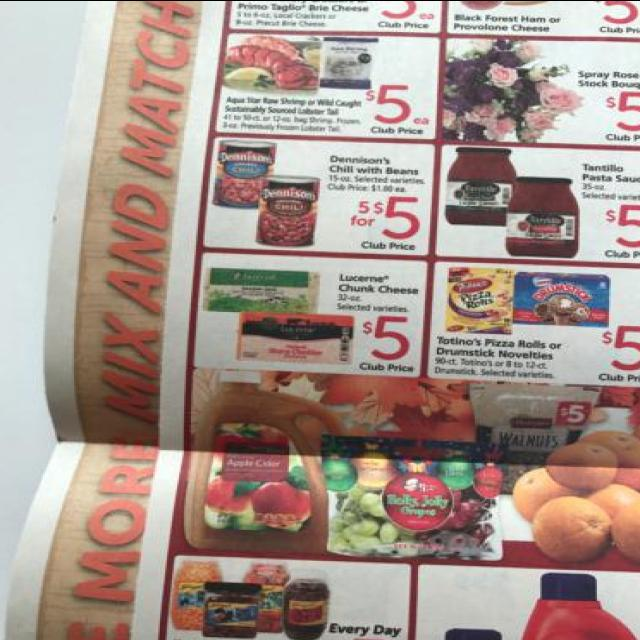kertas: (7, 0, 640, 640)
